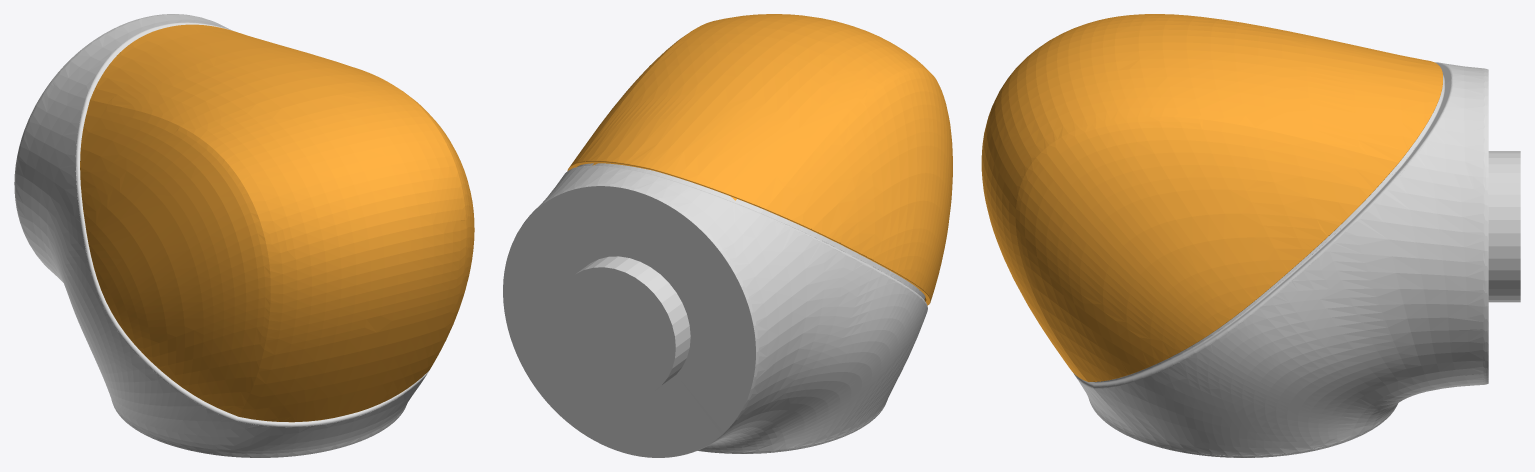
3 views of the same model, side by side, from view 1: azimuth 30°, elevation 25°; view 2: azimuth 150°, elevation 25°; view 3: azimuth 270°, elevation 25° (orthographic). The views are drawn at different scales.
Visible parts, largest first — view 1: link_6; view 2: link_6; view 3: link_6.
Part boxes in pixels (left/top/right/bottom): link_6: left=14, top=14, right=474, bottom=457; link_6: left=503, top=14, right=952, bottom=457; link_6: left=981, top=14, right=1520, bottom=457.
Size of the model in its own units: 0.1323 by 0.1774 by 0.1374.
